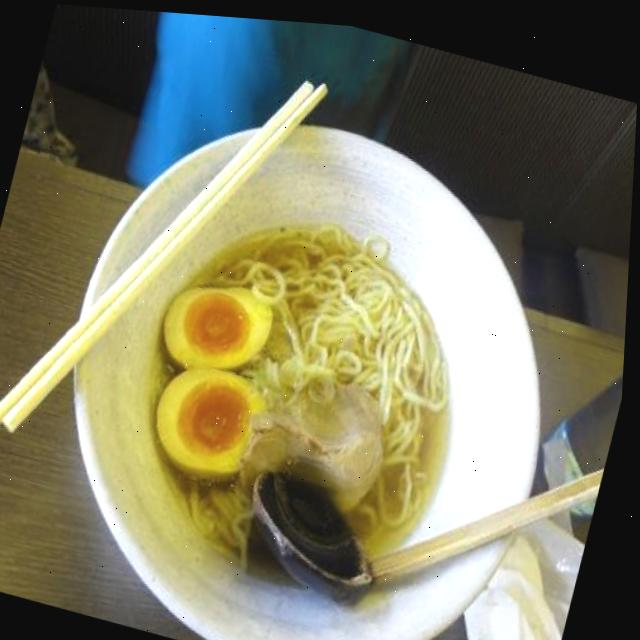面条主食: (13, 60, 614, 640)
